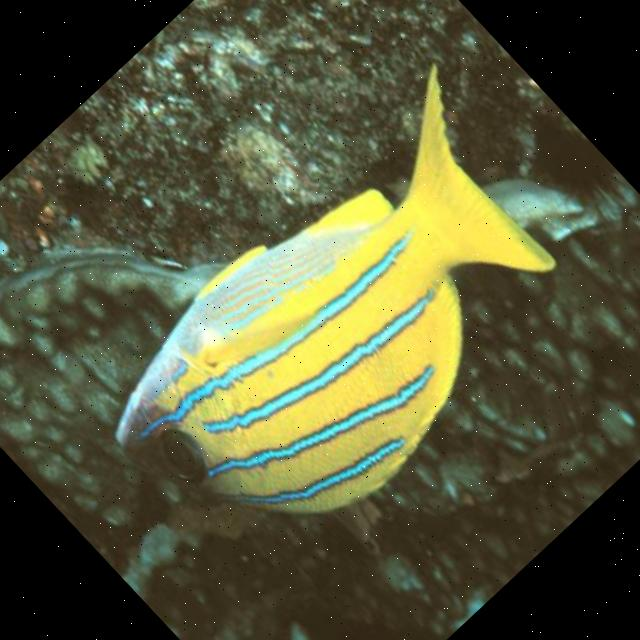ikan: (71, 57, 627, 603)
